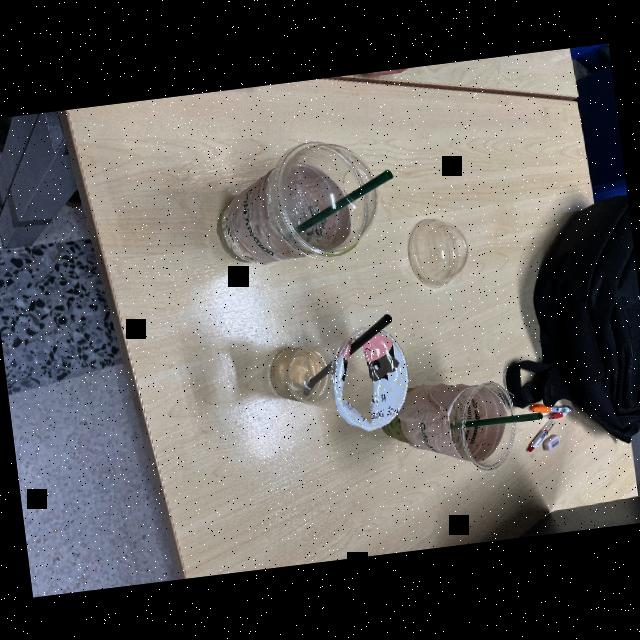plastic_cup: (206, 140, 377, 272), (254, 318, 423, 442), (374, 370, 526, 482)
plastic_cup_lid: (258, 128, 393, 272), (393, 208, 493, 302)
straw: (280, 158, 400, 250), (296, 305, 416, 387), (449, 404, 542, 439)
